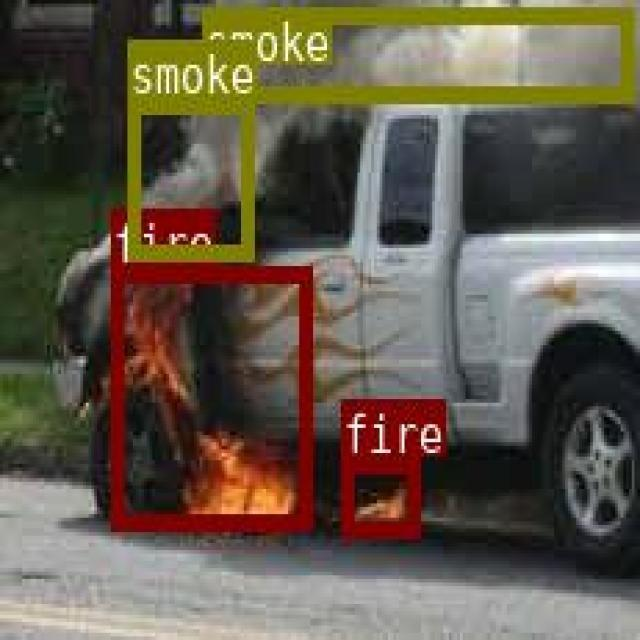fire: (109, 265, 308, 528), (340, 456, 417, 534)
smoke: (200, 7, 630, 99), (126, 93, 252, 257)
